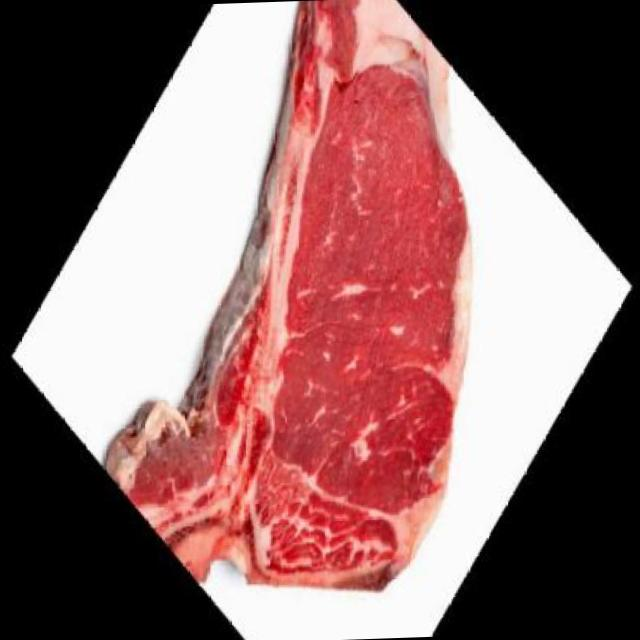beef: (75, 0, 495, 640)
